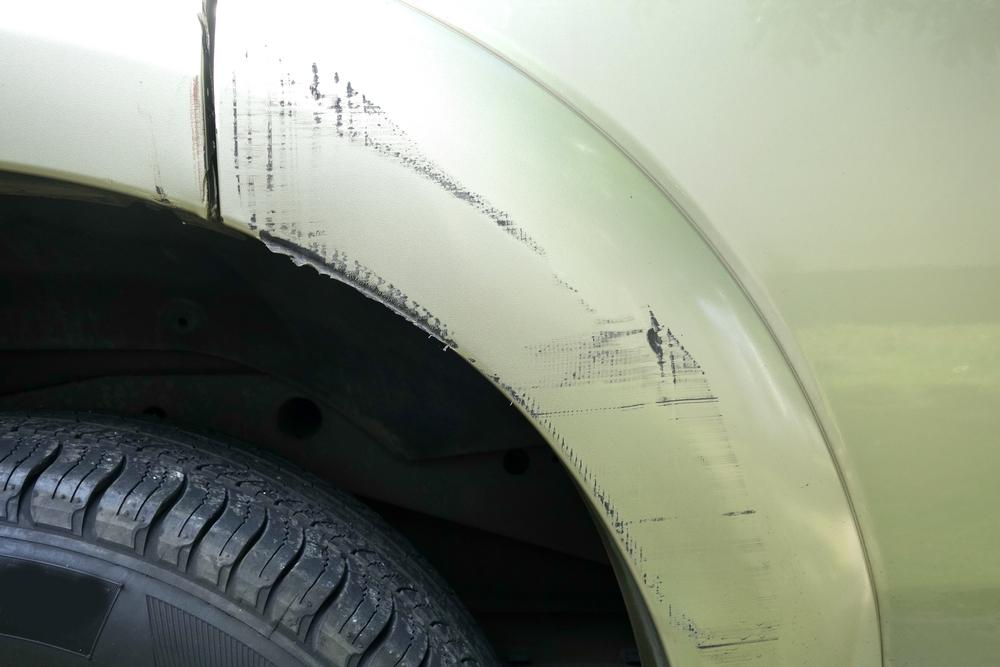scratch: (221, 48, 781, 667)
